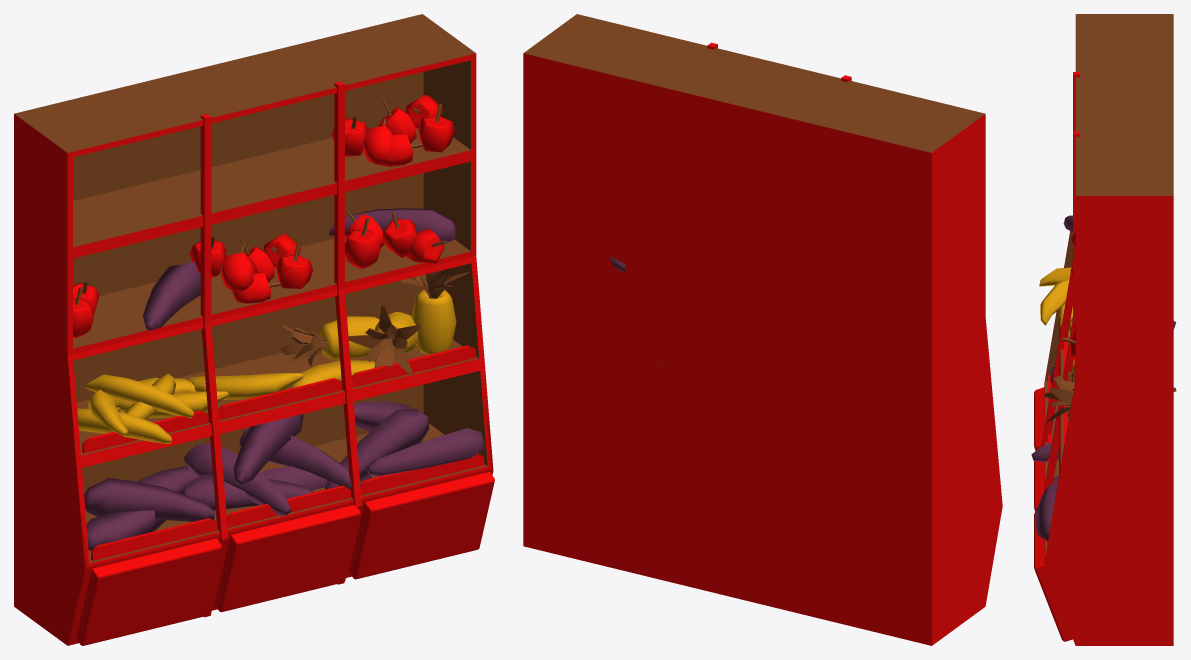
The model's file is Shelve_Fruit_01.fbx.
3 renders of one model, left to right at view 1: azimuth 30°, elevation 25°; view 2: azimuth 150°, elevation 25°; view 3: azimuth 270°, elevation 25°, orthographic. The views are drawn at different scales.
Parts seen in each view (by area): view 1: pasted__Shelf_B_048; view 2: pasted__Shelf_B_048; view 3: pasted__Shelf_B_048.
Boxes of the visible parts, left/top/right/bottom form: pasted__Shelf_B_048: left=14, top=14, right=494, bottom=645; pasted__Shelf_B_048: left=523, top=14, right=1002, bottom=645; pasted__Shelf_B_048: left=1031, top=14, right=1176, bottom=645.
Bounding box in the file's own units: 14.94 × 17.45 × 5.03.
Materials: 4 (4 with a texture image).
